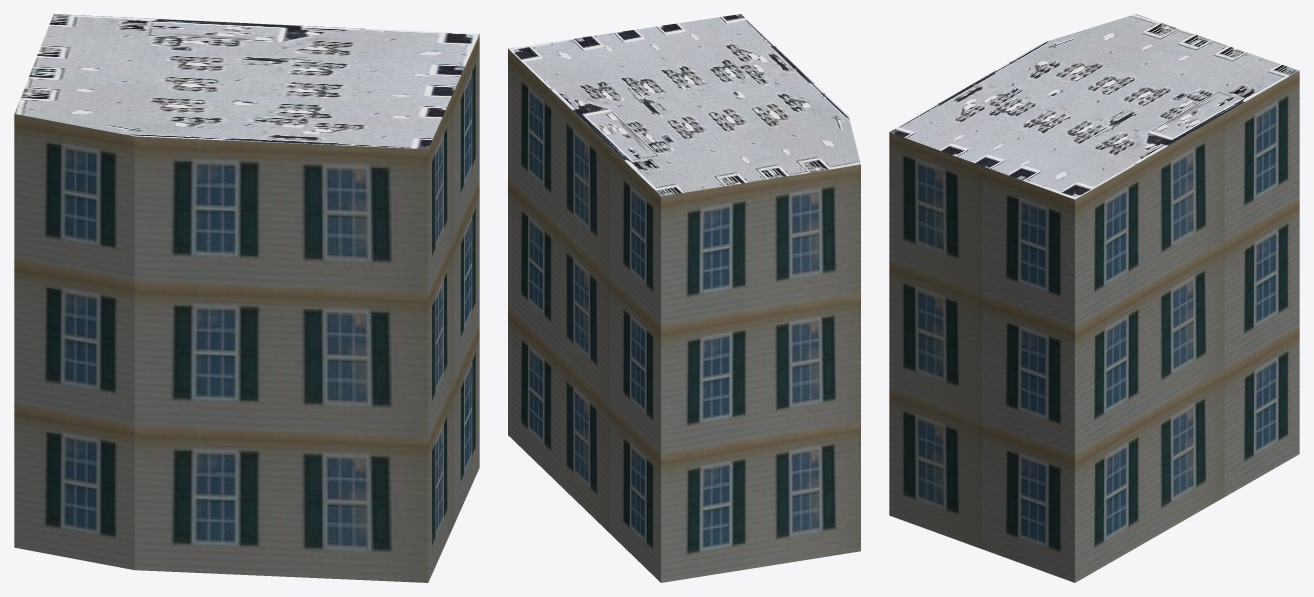
Rendered from ResTex__4086.fbx.
The picture shows the model from 3 angles, left to right: view 1: azimuth 30°, elevation 25°; view 2: azimuth 150°, elevation 25°; view 3: azimuth 270°, elevation 25°; orthographic projection. The views are drawn at different scales.
Parts seen in each view (by area): view 1: CityEngineMaterial_7_m, CityEngineMaterial_8_m; view 2: CityEngineMaterial_7_m, CityEngineMaterial_8_m; view 3: CityEngineMaterial_7_m, CityEngineMaterial_8_m.
Part boxes in pixels (left/top/right/bottom): CityEngineMaterial_7_m: left=14, top=34, right=479, bottom=582; CityEngineMaterial_8_m: left=14, top=14, right=479, bottom=149; CityEngineMaterial_7_m: left=508, top=49, right=860, bottom=582; CityEngineMaterial_8_m: left=508, top=14, right=860, bottom=196; CityEngineMaterial_7_m: left=889, top=71, right=1299, bottom=582; CityEngineMaterial_8_m: left=889, top=14, right=1299, bottom=199.
Bounding box in the file's own units: 9.35 × 9 × 8.73.
2 materials, 2 textured.
